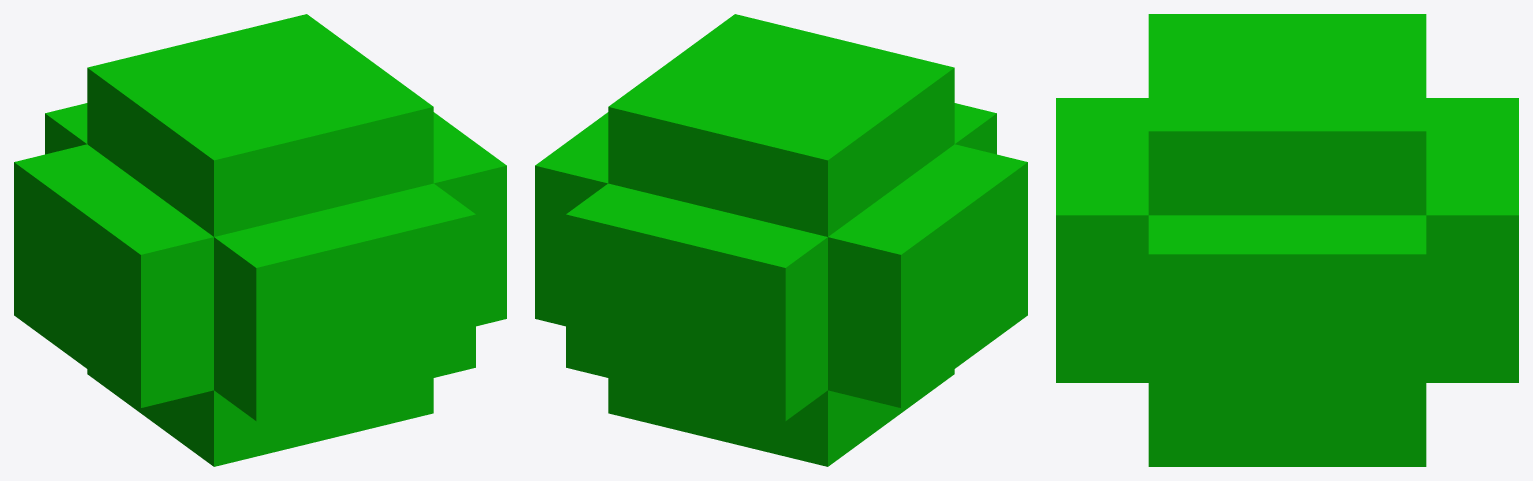
The model's file is player-6.obj.
The picture shows the model from 3 angles, left to right: view 1: azimuth 30°, elevation 25°; view 2: azimuth 150°, elevation 25°; view 3: azimuth 270°, elevation 25°; orthographic projection. The views are drawn at different scales.
Bounding box in the file's own units: 0.5 × 0.4 × 0.5.
Materials: 1 (1 with a texture image).
